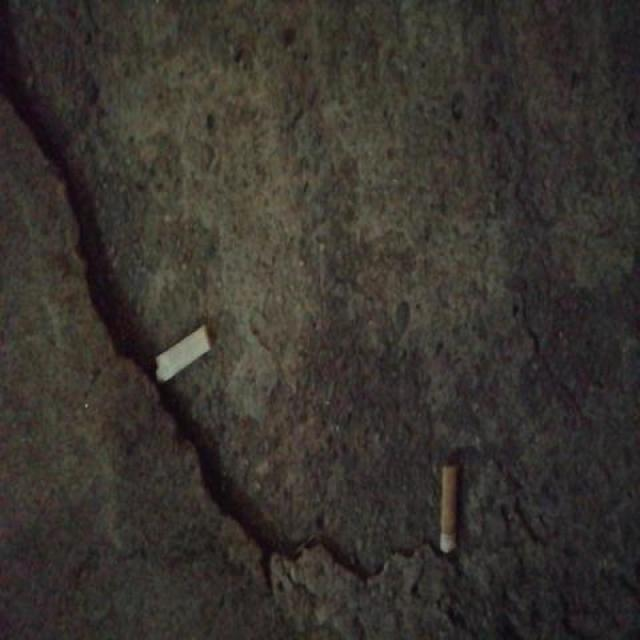non-organic waste: (150, 317, 214, 391), (437, 460, 463, 557)
